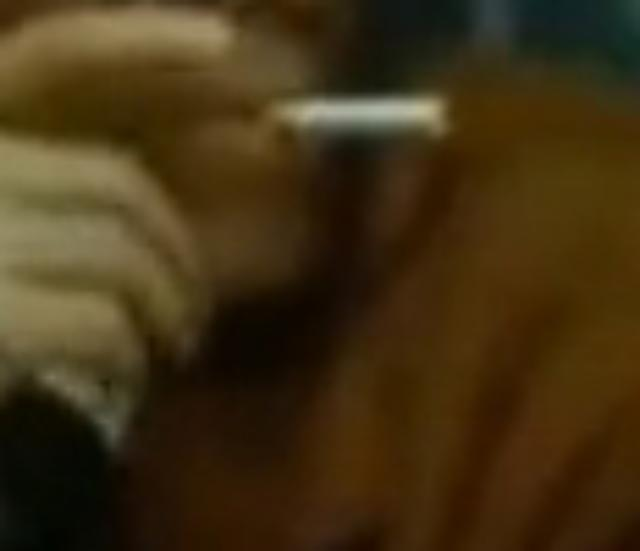Cigarette: (259, 82, 446, 137)
